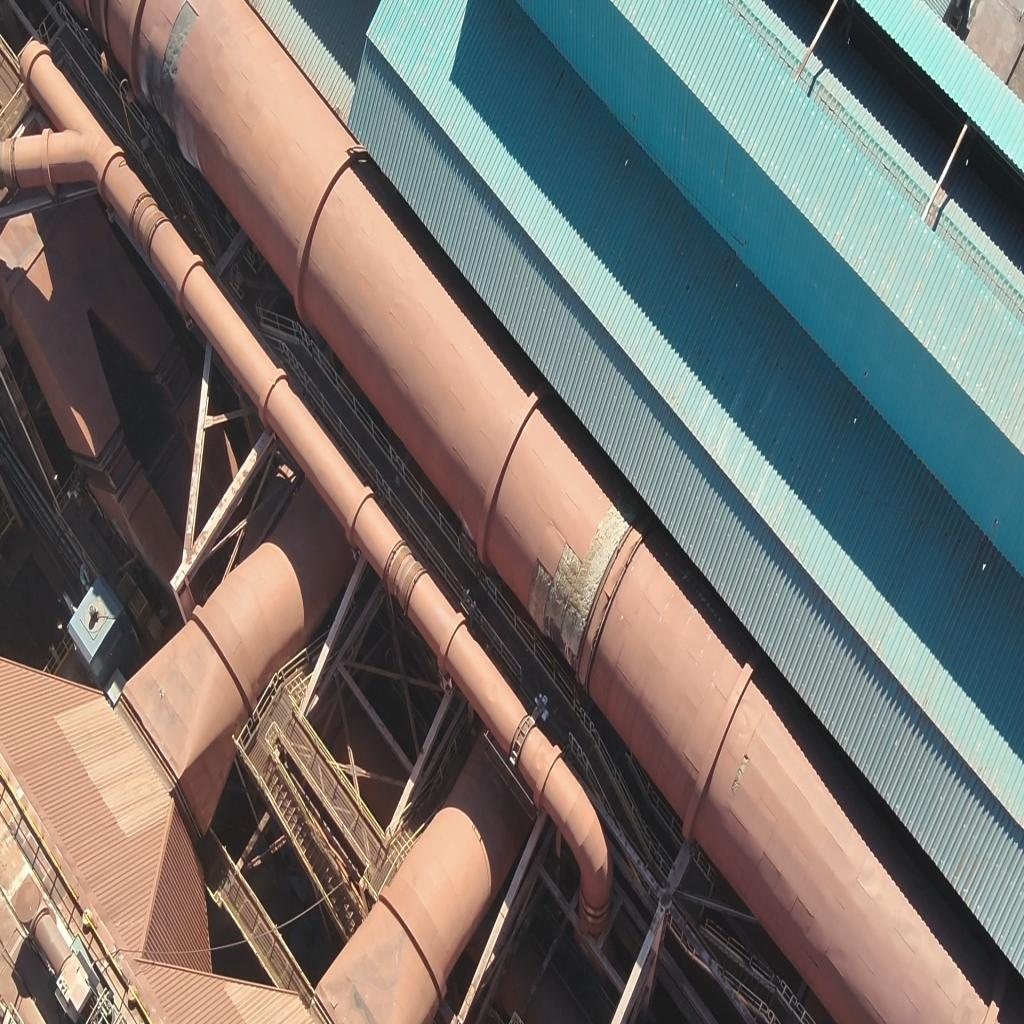Failures: (732, 753, 751, 798)
